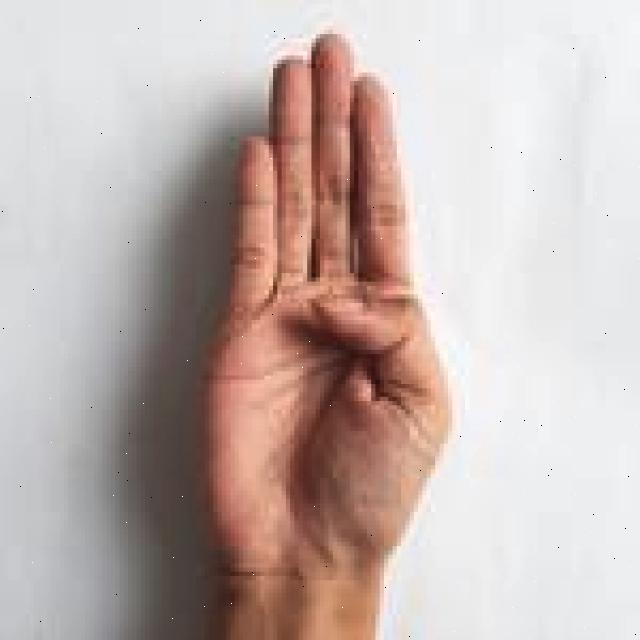B: (196, 28, 452, 640)
